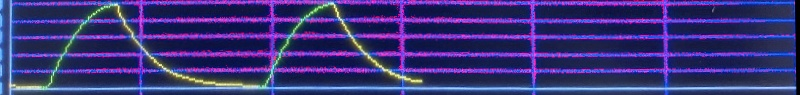normal_volume: (2, 0, 432, 92)
